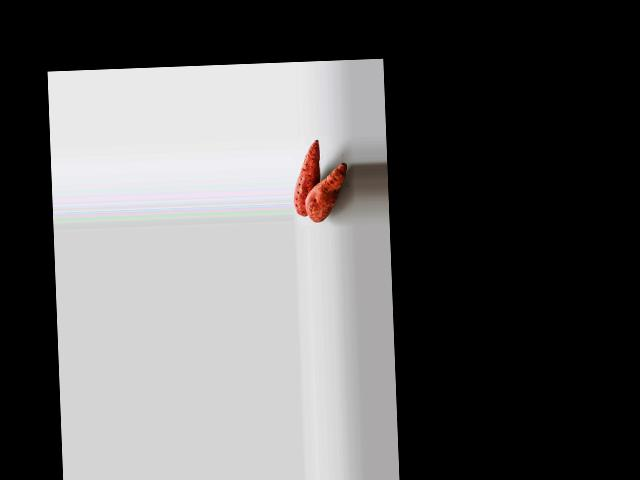sweet_potato: (292, 144, 322, 216)
